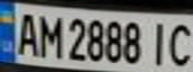2: (63, 14, 87, 62)
8: (121, 17, 148, 66), (103, 16, 127, 64), (84, 16, 106, 63)
A: (12, 8, 42, 56)
C: (163, 18, 193, 69)
I: (145, 18, 172, 68)
M: (33, 10, 63, 58)
